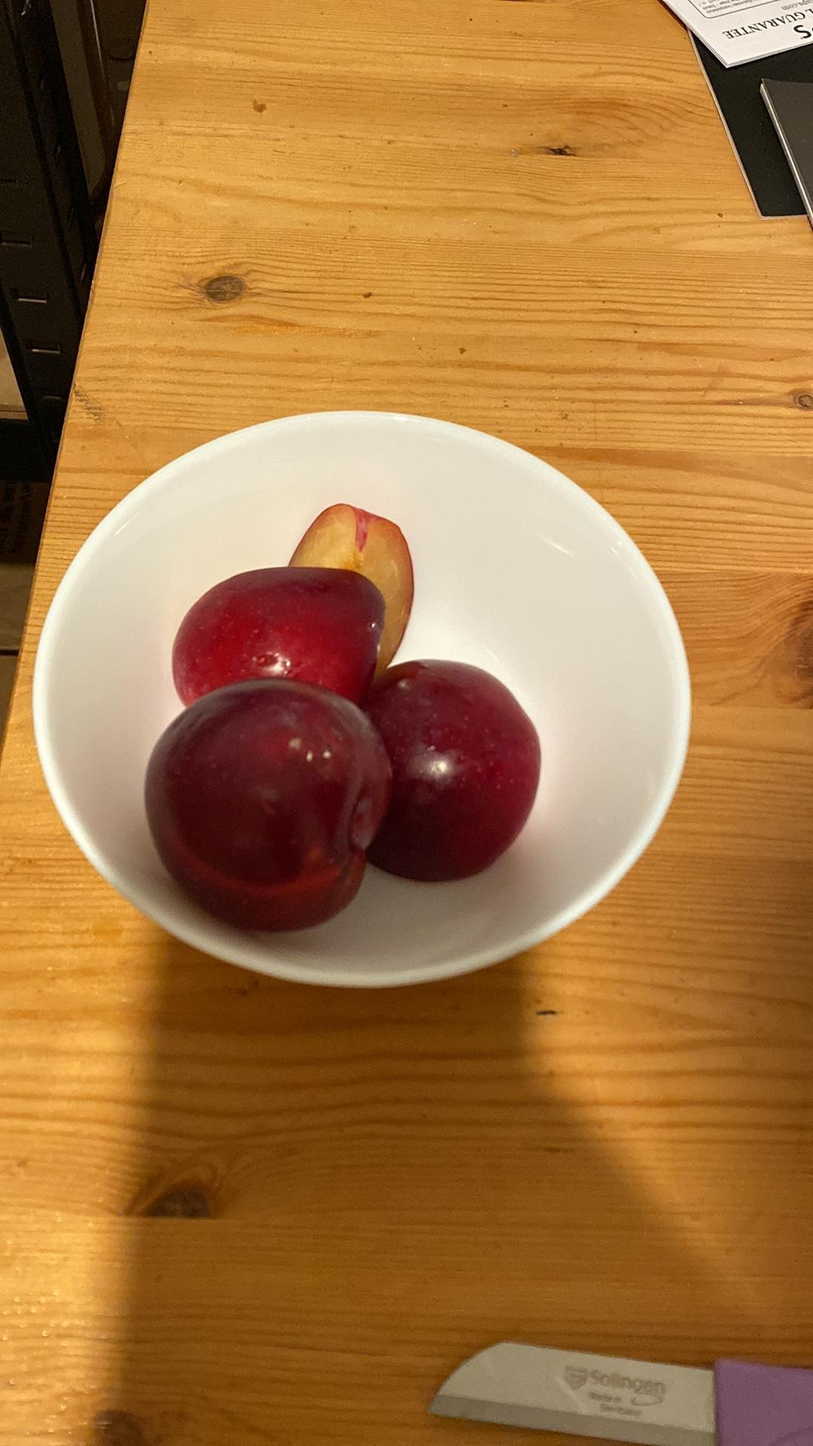apple: (146, 681, 388, 936), (368, 662, 542, 885), (166, 559, 380, 703), (298, 504, 412, 665)
